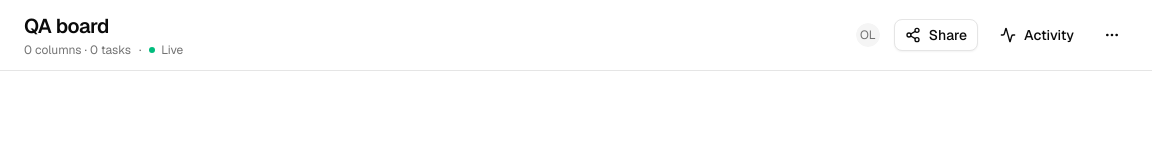
BoardHeader › renames optimistically and keeps the title the server returns
Click the button "QA board". click: (66, 26)
box: left=24, top=12, right=109, bottom=40
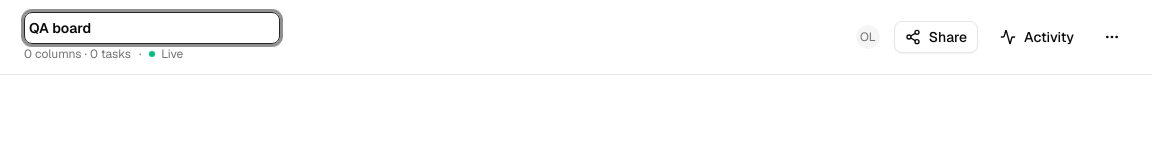
Replace the text in the field with "Roadmap". click: (152, 28)
box: left=24, top=12, right=280, bottom=44
Then press Enter
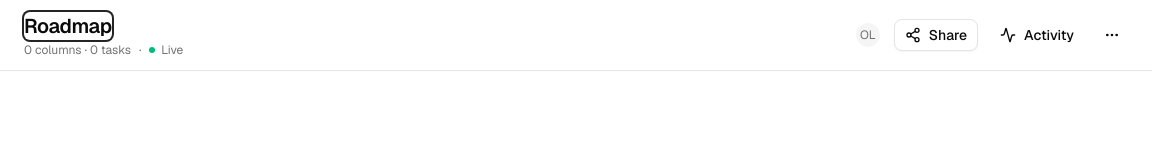
expect the heading reads "Roadmap": met, box left=24, top=12, right=112, bottom=40
